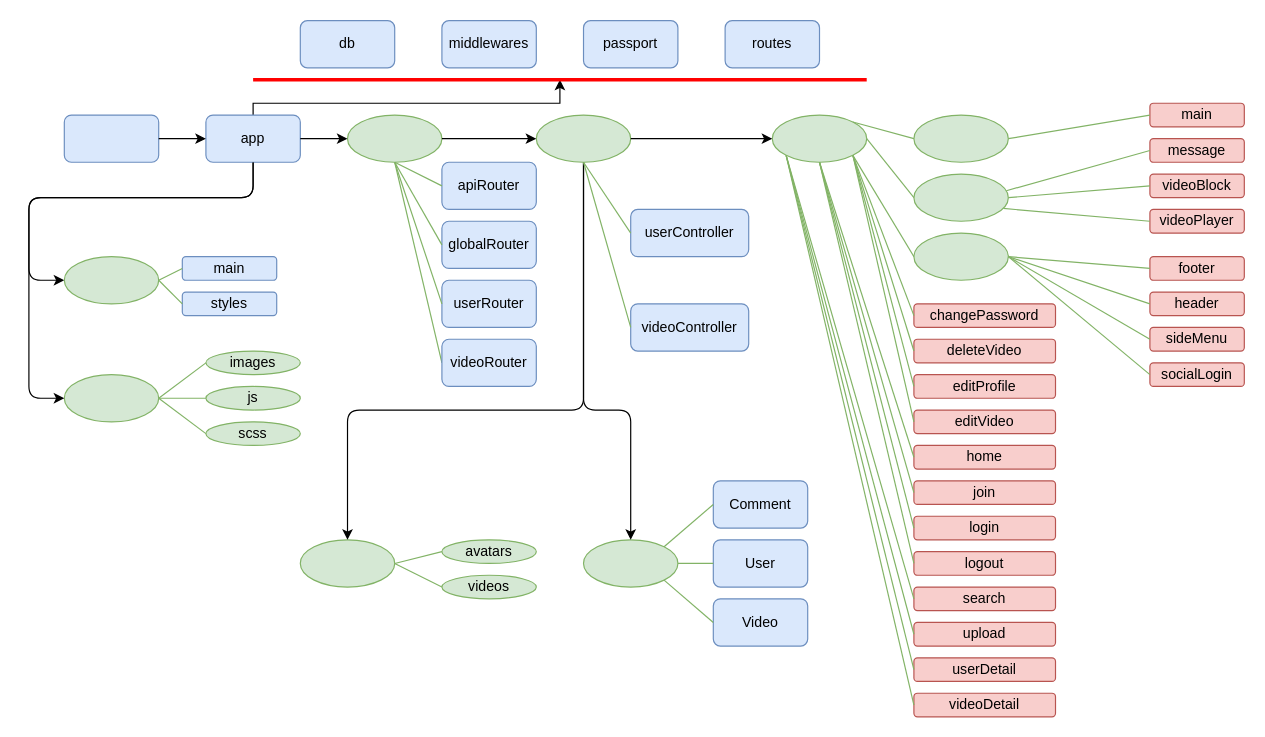
The diagram is 1265 pixels wide and 737 high, and some of its shapes have lost their labels. Here are the shapes that lost their labels. From the top down, the box of each, then its label:
(63, 114, 159, 162): init
(346, 114, 442, 162): routers
(535, 114, 631, 162): controllers
(771, 114, 867, 162): views
(913, 114, 1008, 162): layouts
(913, 173, 1008, 221): mixins
(913, 232, 1008, 280): partials
(63, 255, 159, 304): static
(63, 373, 159, 422): assets
(299, 539, 395, 587): uploads
(582, 539, 678, 587): models
